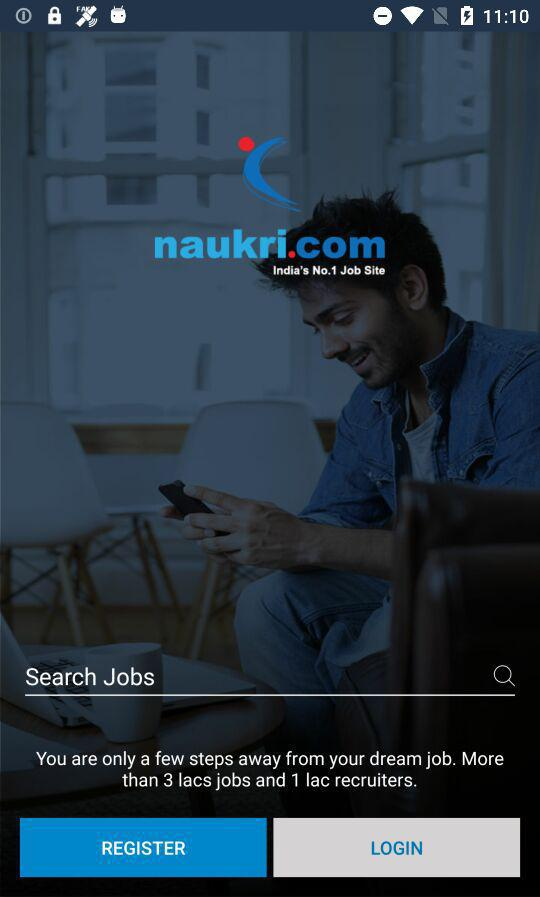BackgroundImage: (1, 33, 540, 897)
EditText: (25, 664, 516, 697)
Icon: (493, 664, 516, 687)
Image: (154, 135, 386, 277)
Text: (36, 750, 504, 792), (26, 667, 155, 687)
TextButton: (20, 817, 268, 878), (273, 818, 521, 878)
UpperTaskBar: (1, 1, 540, 33)
